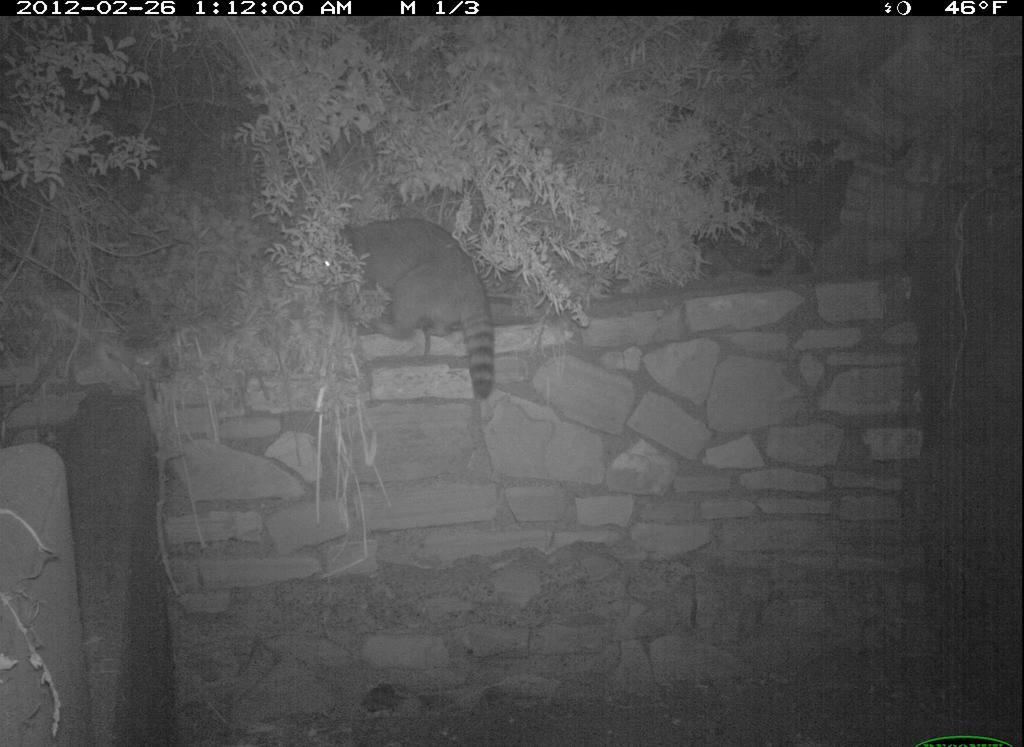raccoon: (318, 216, 498, 406)
